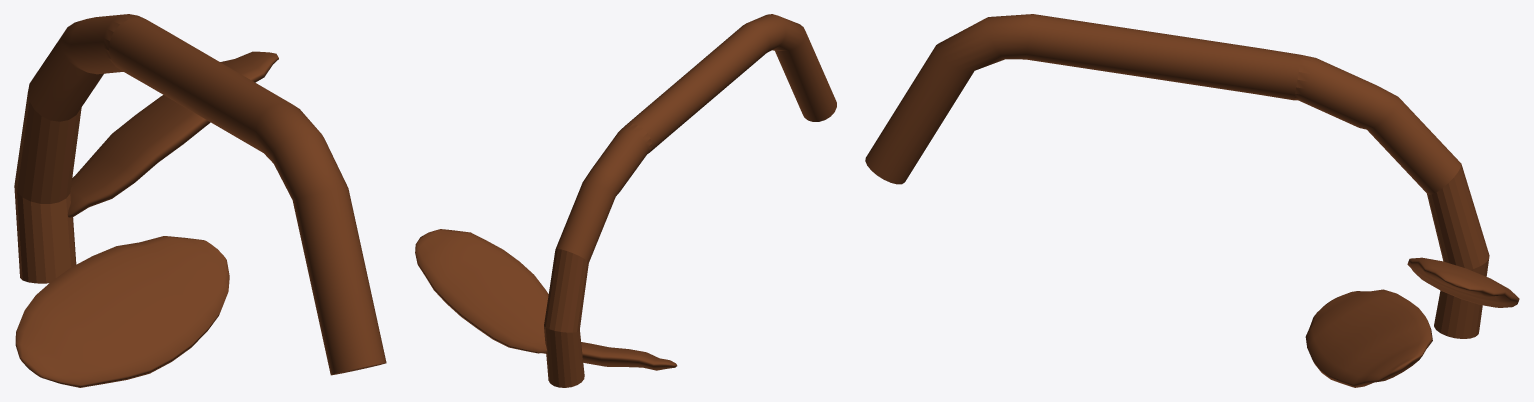
The model's file is deadPlant.fbx.
3 renders of one model, left to right at view 1: azimuth 30°, elevation 25°; view 2: azimuth 150°, elevation 25°; view 3: azimuth 270°, elevation 25°, orthographic. The views are drawn at different scales.
Visible parts, largest first — view 1: DeadPlantbody, LeafGround, Leaf; view 2: DeadPlantbody, Leaf, LeafGround; view 3: DeadPlantbody, LeafGround, Leaf.
Part boxes in pixels (<box>): DeadPlantbody: <box>14,14,386,375</box>; LeafGround: <box>15,236,229,387</box>; Leaf: <box>67,51,278,217</box>; DeadPlantbody: <box>544,14,836,387</box>; Leaf: <box>415,229,548,353</box>; LeafGround: <box>541,342,677,370</box>; DeadPlantbody: <box>865,14,1489,338</box>; LeafGround: <box>1305,289,1432,387</box>; Leaf: <box>1407,257,1519,307</box>.
Bounding box in the file's own units: 2.66 × 3.17 × 5.7.
